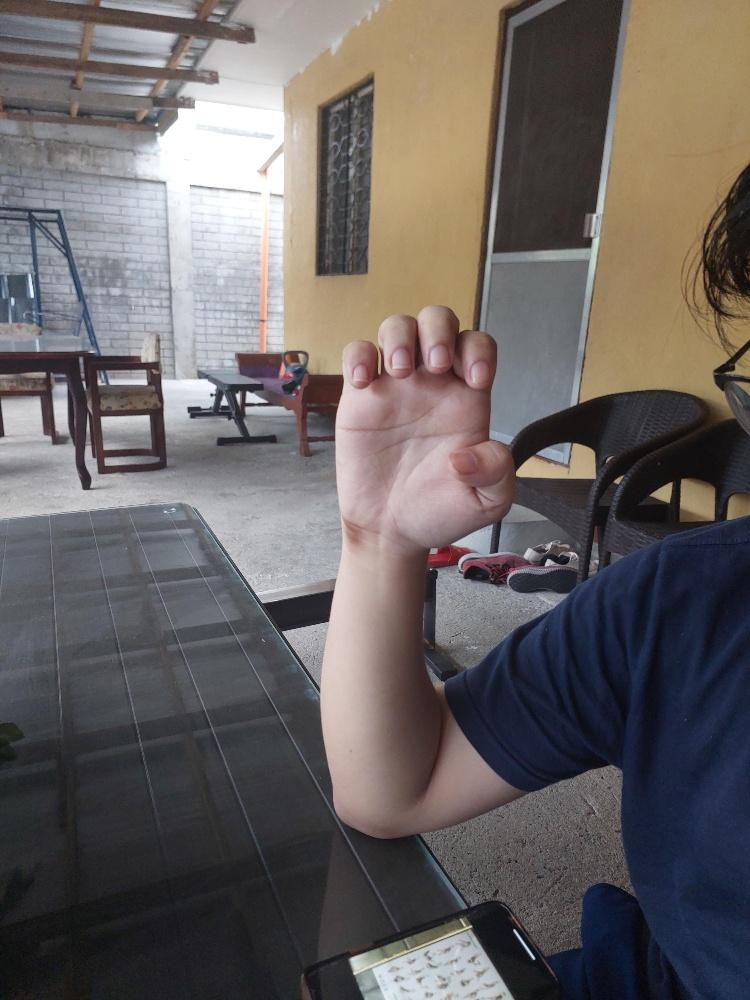e: (332, 299, 518, 554)
